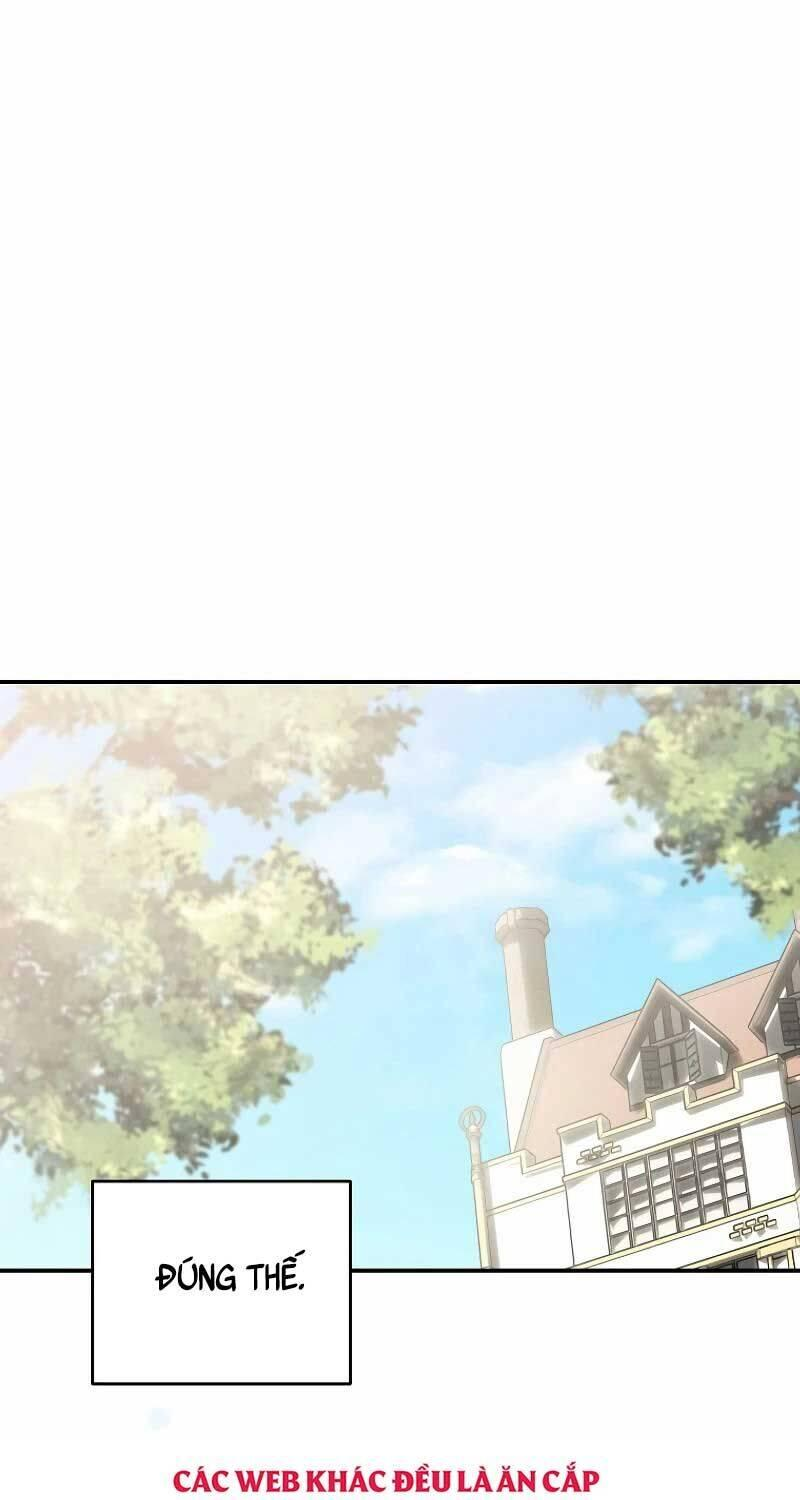quangcao: (168, 1454, 616, 1500)
